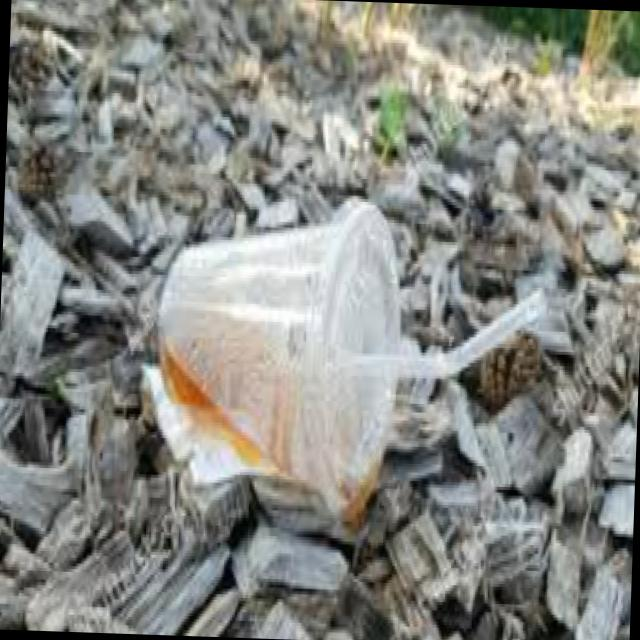GelasPlastik: (141, 185, 406, 538)
